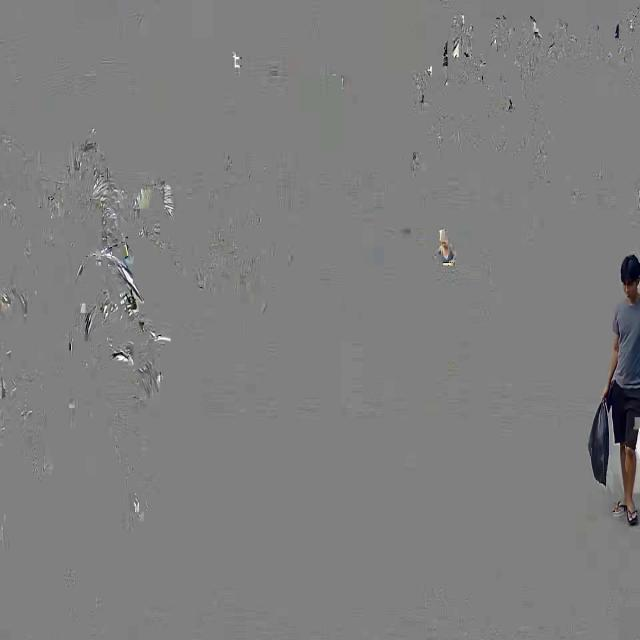garbage: (581, 397, 619, 464)
person: (612, 247, 640, 384)
